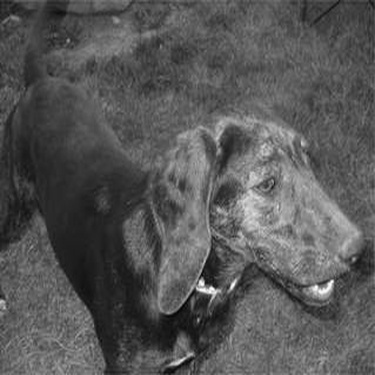dog: (2, 1, 366, 370)
